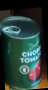tomatoes: (1, 15, 43, 89)
